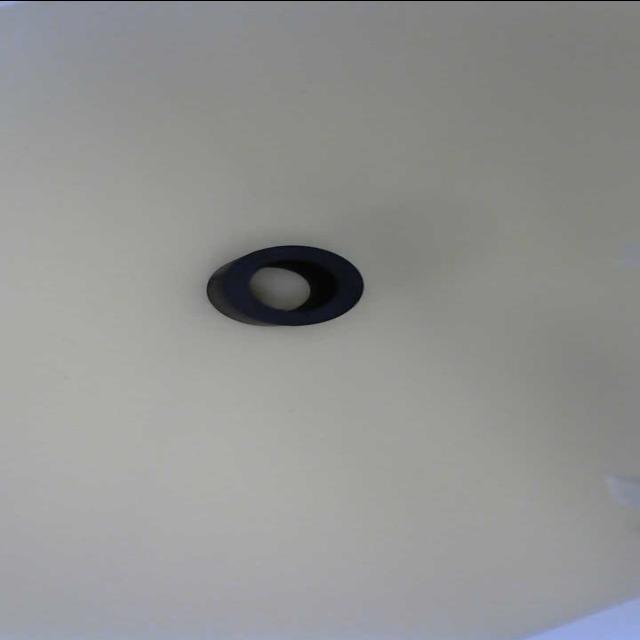ring: (221, 242, 367, 328)
